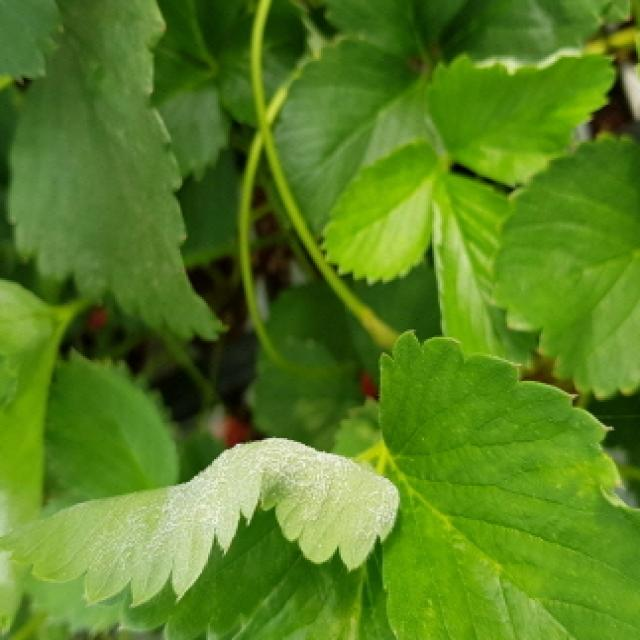Powdery Mildew Leaf: (0, 436, 399, 640)
